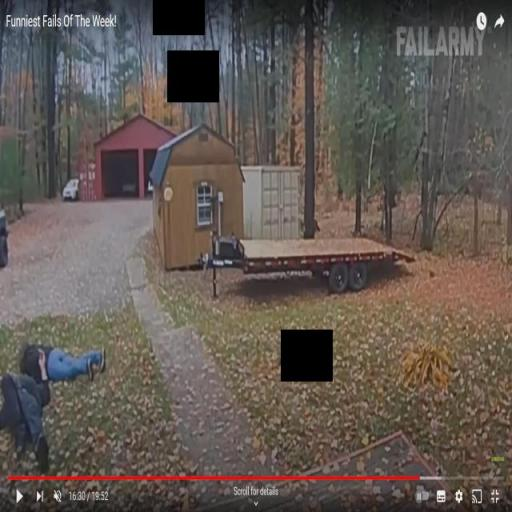Fall: (0, 345, 52, 478), (16, 343, 108, 388)
